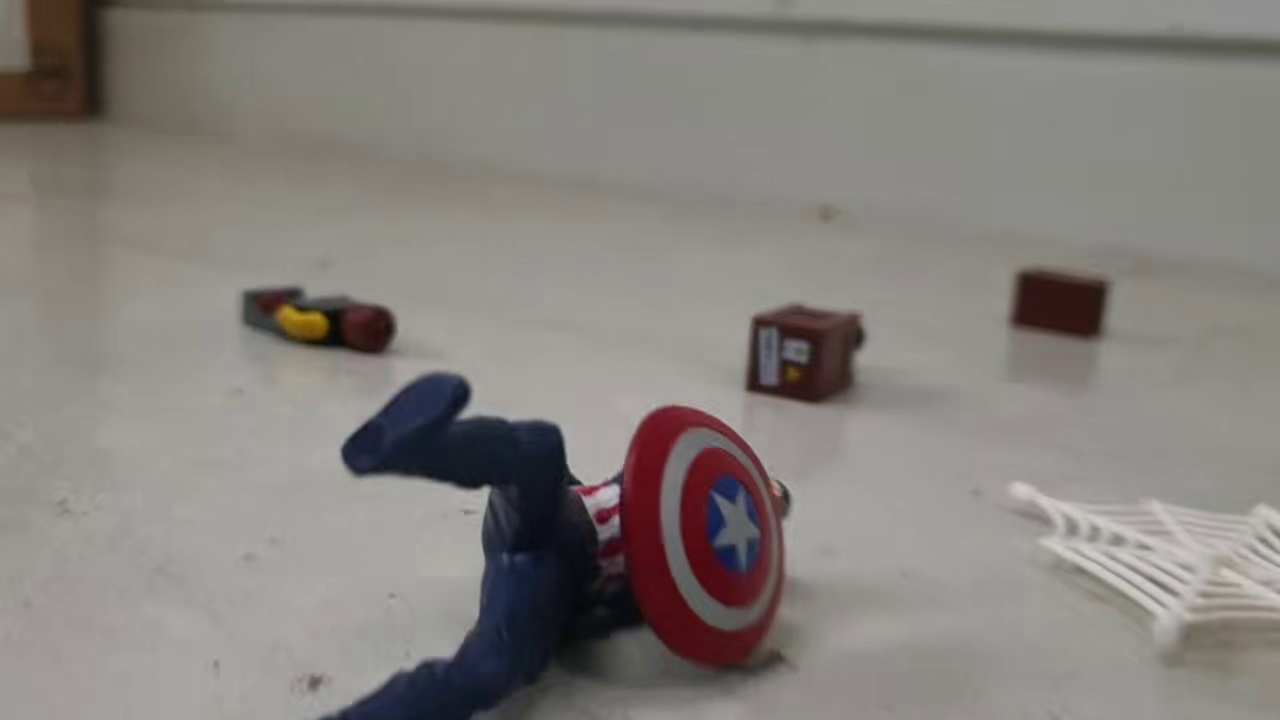box: (742, 301, 867, 407), (1008, 264, 1111, 338)
people: (317, 370, 797, 720), (238, 284, 401, 358)
web: (1007, 477, 1280, 653)
